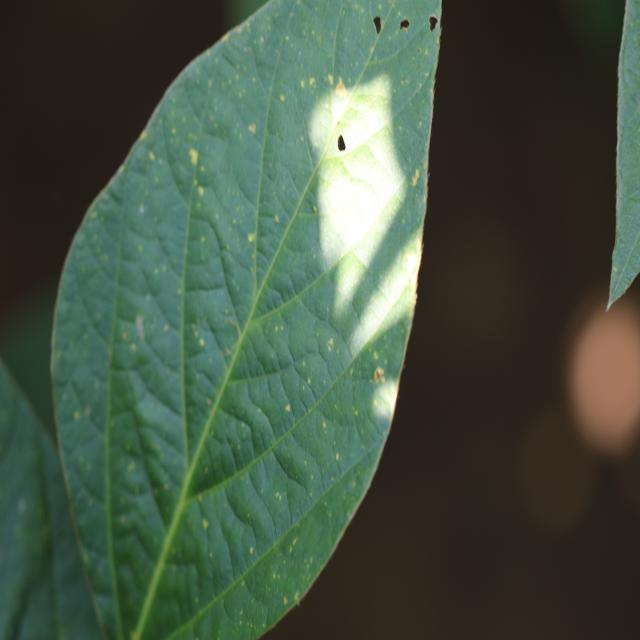Soybean: (48, 0, 442, 640)
downey_mildew: (438, 439, 640, 631), (415, 207, 567, 445), (306, 461, 488, 632), (110, 142, 202, 381), (248, 15, 338, 247), (99, 144, 140, 634), (0, 610, 626, 640), (246, 304, 359, 451), (228, 482, 342, 625), (44, 411, 110, 638), (63, 189, 130, 369), (164, 111, 254, 236), (194, 373, 289, 487), (321, 136, 399, 268), (0, 292, 65, 437), (354, 232, 423, 357), (206, 29, 281, 123), (215, 458, 284, 556), (227, 309, 301, 385), (273, 2, 336, 85), (323, 2, 378, 97), (392, 11, 443, 107), (8, 481, 51, 589), (609, 176, 640, 305), (198, 495, 238, 594), (0, 358, 26, 482), (350, 123, 403, 183), (619, 15, 640, 124), (611, 141, 624, 278), (367, 1, 399, 48), (424, 164, 432, 195), (429, 13, 439, 30), (0, 409, 9, 423), (202, 518, 209, 530), (149, 151, 155, 161), (139, 204, 145, 214), (236, 27, 242, 35), (171, 127, 176, 135), (436, 37, 440, 47), (275, 325, 280, 332), (244, 46, 249, 53), (417, 47, 422, 54), (636, 20, 640, 28), (424, 48, 428, 56), (260, 36, 264, 43), (257, 407, 261, 414), (209, 551, 213, 558), (350, 368, 353, 376), (195, 597, 199, 603), (262, 622, 266, 628)
